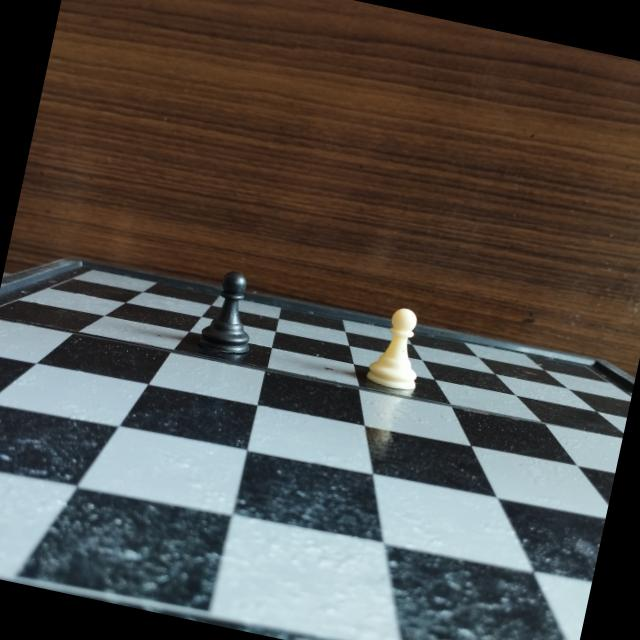Black Pawn: (194, 261, 271, 364)
White Pawn: (362, 298, 438, 399)
